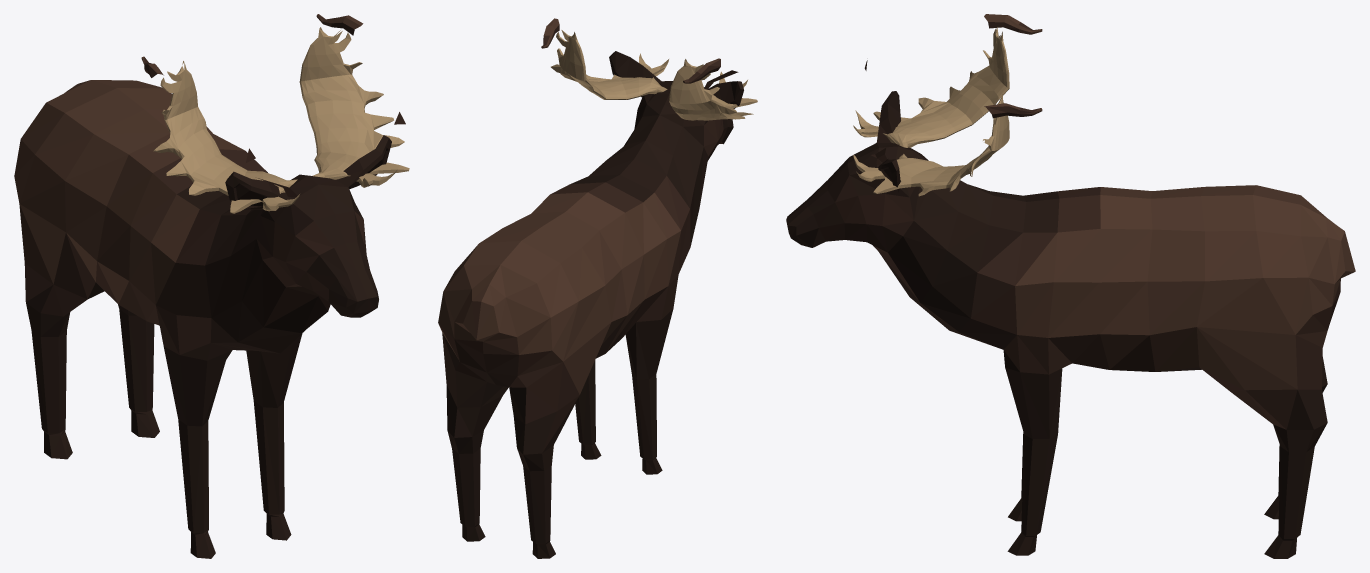
Rendered from moose.glb.
3 views of the same model, side by side, from view 1: azimuth 30°, elevation 25°; view 2: azimuth 150°, elevation 25°; view 3: azimuth 270°, elevation 25° (orthographic). The views are drawn at different scales.
Parts seen in each view (by area): view 1: moose; view 2: moose; view 3: moose.
Boxes of the visible parts, x1,y1,x2,y2 form: moose: [14, 14, 409, 558]; moose: [438, 18, 757, 558]; moose: [786, 14, 1355, 558].
Size of the model in its own units: 6.4 by 13.53 by 14.73.
